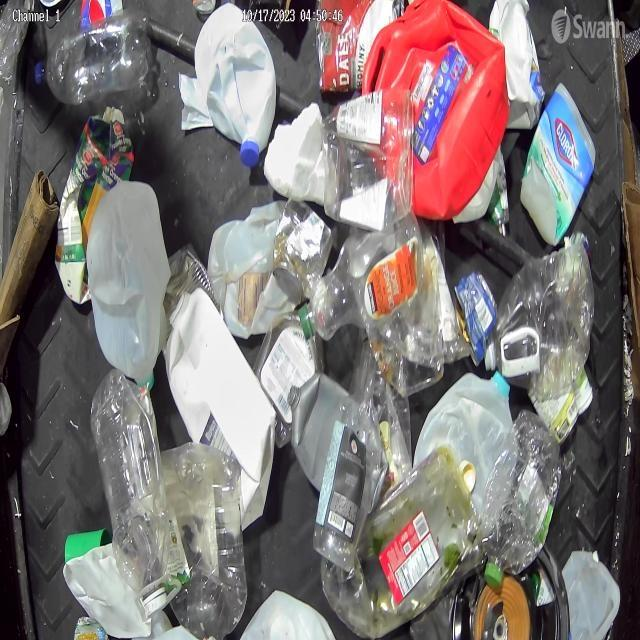milk_jug: (165, 289, 276, 530), (88, 180, 171, 380), (211, 205, 315, 341), (417, 370, 514, 506), (193, 4, 276, 162), (64, 540, 152, 639), (562, 547, 623, 640), (232, 590, 341, 640)
non_white_jug: (361, 1, 509, 220), (288, 372, 350, 492)
plastic_bottle: (482, 409, 559, 586), (36, 15, 148, 107)
